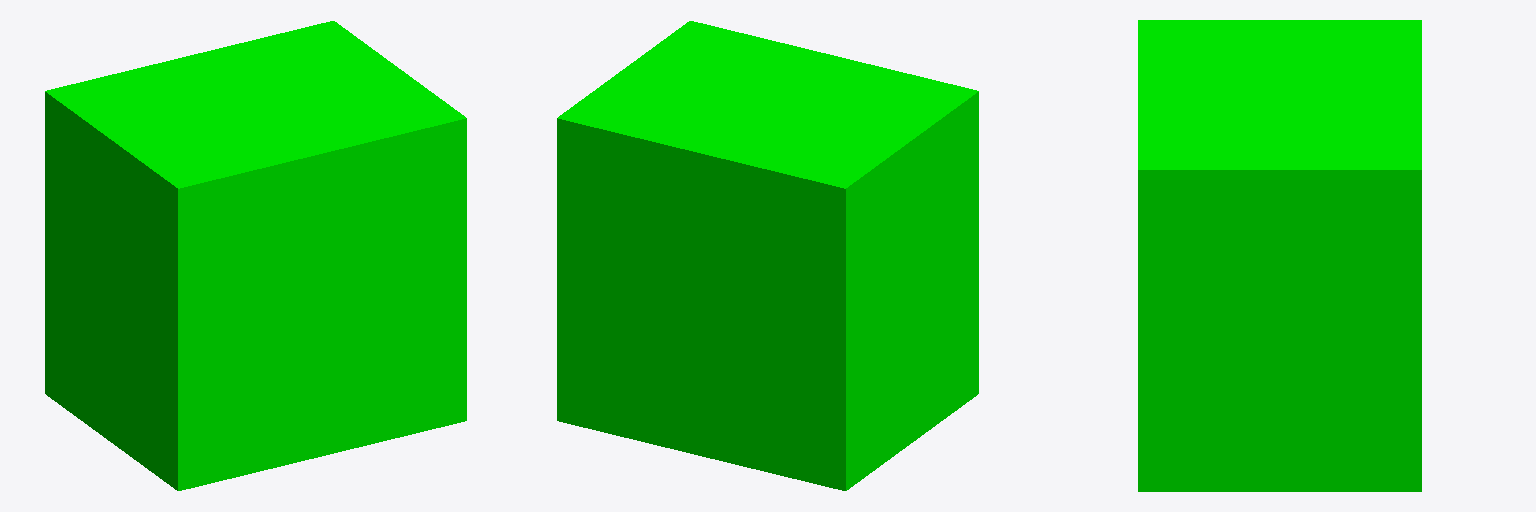
robot.urdf — green_cube:
<?xml version="1.0" ?>
<robot name="green_cube">
  <link name="base_link">
    <inertial>
      <origin rpy="0.0 0.0 0.0" xyz="0.0 0.0 0.0"/>
      <mass value="0.05"/>
      <inertia ixx="4.166666666666668e-05" ixy="0.0" ixz="0.0" iyy="4.166666666666668e-05" iyz="0.0" izz="4.166666666666668e-05"/>
    </inertial>
    <visual>
      <origin rpy="0.0 0.0 0.0" xyz="0.0 0.0 0.025"/>
      <geometry>
        <box size="0.1 0.08 0.1"/>
      </geometry>
      <material name="green">
        <color rgba="0 1 0 1"/>
      </material>
    </visual>
    <collision>
      <origin rpy="0.0 0.0 0.0" xyz="0.0 0.0 0.025"/>
      <geometry>
        <box size="0.1 0.08 0.1"/>
      </geometry>
      <surface>
        <friction>
          <ode>
            <mu>100</mu>
            <mu2>100</mu2>
        <fdir1>1 1 0</fdir1>
          </ode>
        </friction>
      </surface>
    </collision>
  </link>
  <gazebo reference="base_link">
    <material>Gazebo/Green</material>
  </gazebo>
</robot>

--- Render facts (derived) ---
Views: 3 orthographic renders of the robot side by side, from view 1: azimuth 30°, elevation 25°; view 2: azimuth 150°, elevation 25°; view 3: azimuth 270°, elevation 25°.
Robot: green_cube — 1 links, 0 joints (none); root link base_link; default pose: all joints at 0.
Visible links, largest first — view 1: base_link; view 2: base_link; view 3: base_link.
Link boxes in pixels (x1,y1,x2,y2): base_link: (45, 21, 466, 490); base_link: (557, 21, 978, 490); base_link: (1138, 20, 1421, 491).
Bounding box of the posed robot: 0.1 × 0.08 × 0.1 m (x, y, z).
Geometry: primitives only (box / cylinder / sphere), no mesh files.